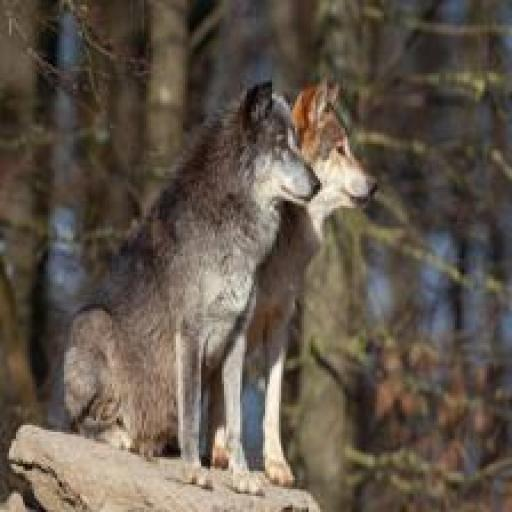wolf: (62, 89, 321, 448), (300, 66, 388, 252)
